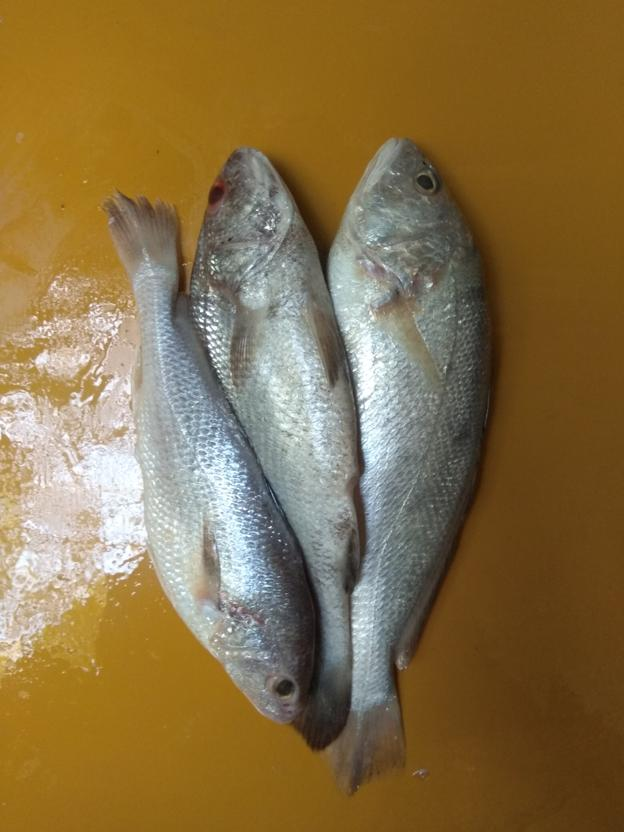Fish head: (348, 136, 477, 288), (194, 146, 294, 289), (215, 602, 317, 722)
Fish tail: (325, 702, 408, 798), (99, 188, 182, 281), (287, 650, 354, 756)
